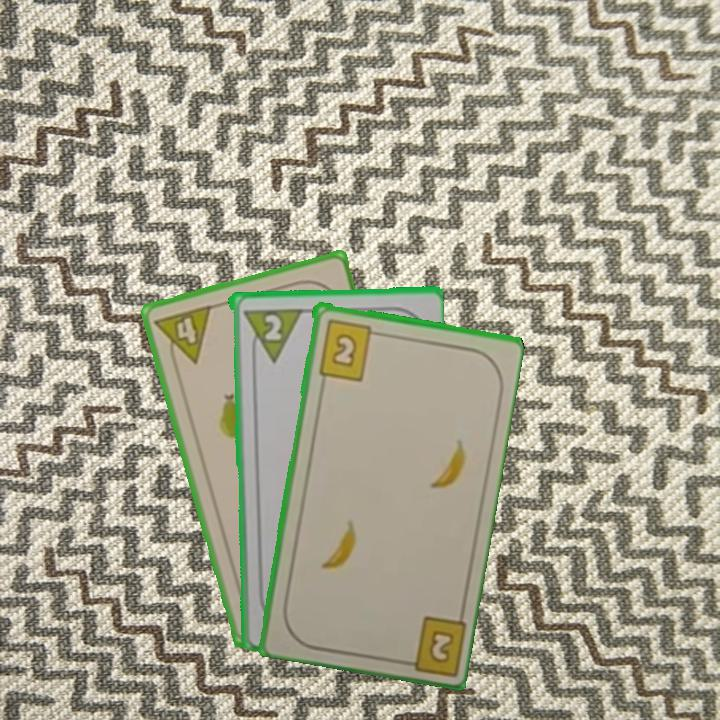2b: (314, 315, 383, 383), (394, 612, 467, 675)
2p: (239, 304, 302, 365)
4p: (151, 301, 215, 372)
